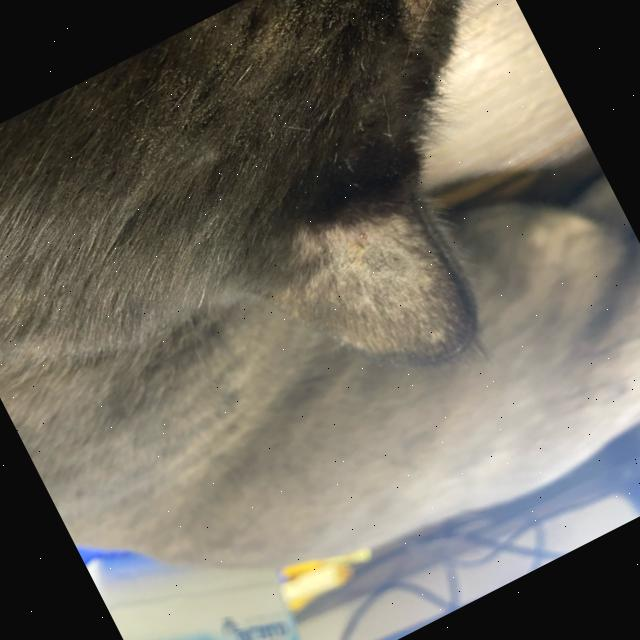cat-hairloss: (246, 163, 494, 414)
